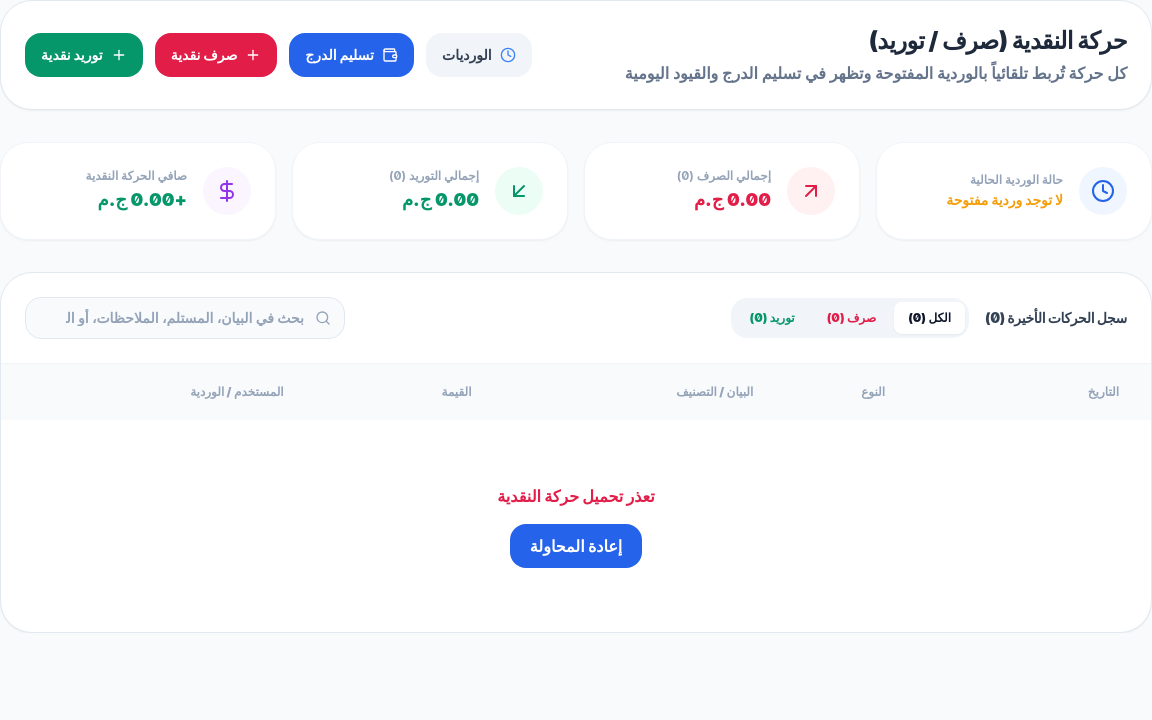
Test: cash-transaction error and keyboard behavior › shows a retryable load failure instead of reporting an empty movement history
Check: the text "تعذر تحميل حركة النقدية" is shown, box [497,486,655,506]
Click the button "إعادة المحاولة". click: click(576, 546)
box: [510,524,642,568]
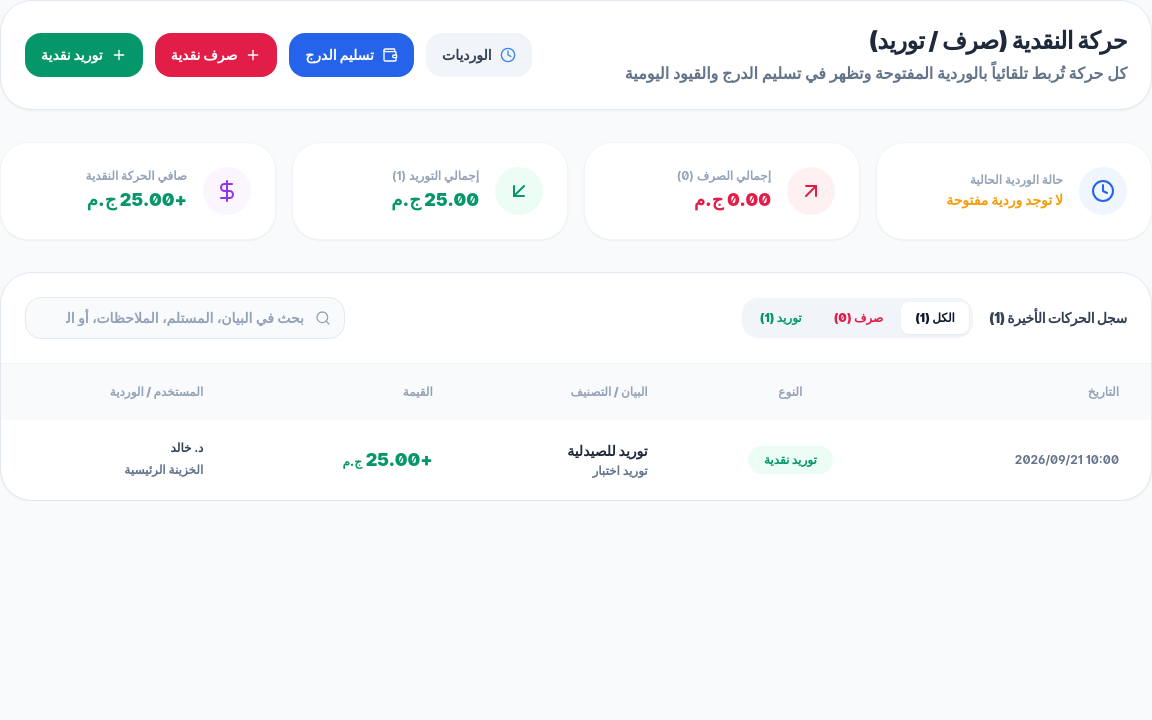
Check: the text "توريد اختبار" is shown, box [592,463,648,478]
